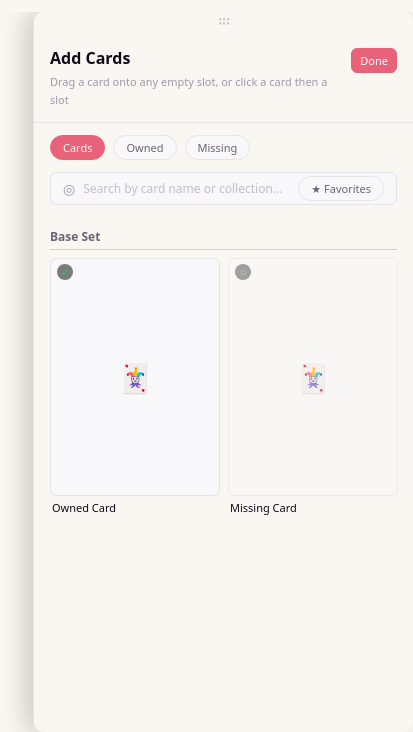
Test: AddCardsPanel — ownership tabs › the Owned tab shows only owned cards
The width and height of the screenshot is (413, 732).
Click the tab "Owned".
click(145, 148)  # box [114,135,176,160]
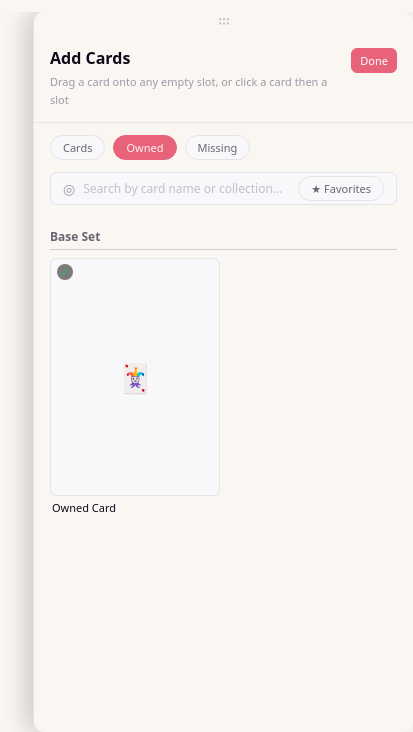
Expected: the text "Owned Card" is shown, [52,500,116,515]
Result: the button "Missing Card" is gone
